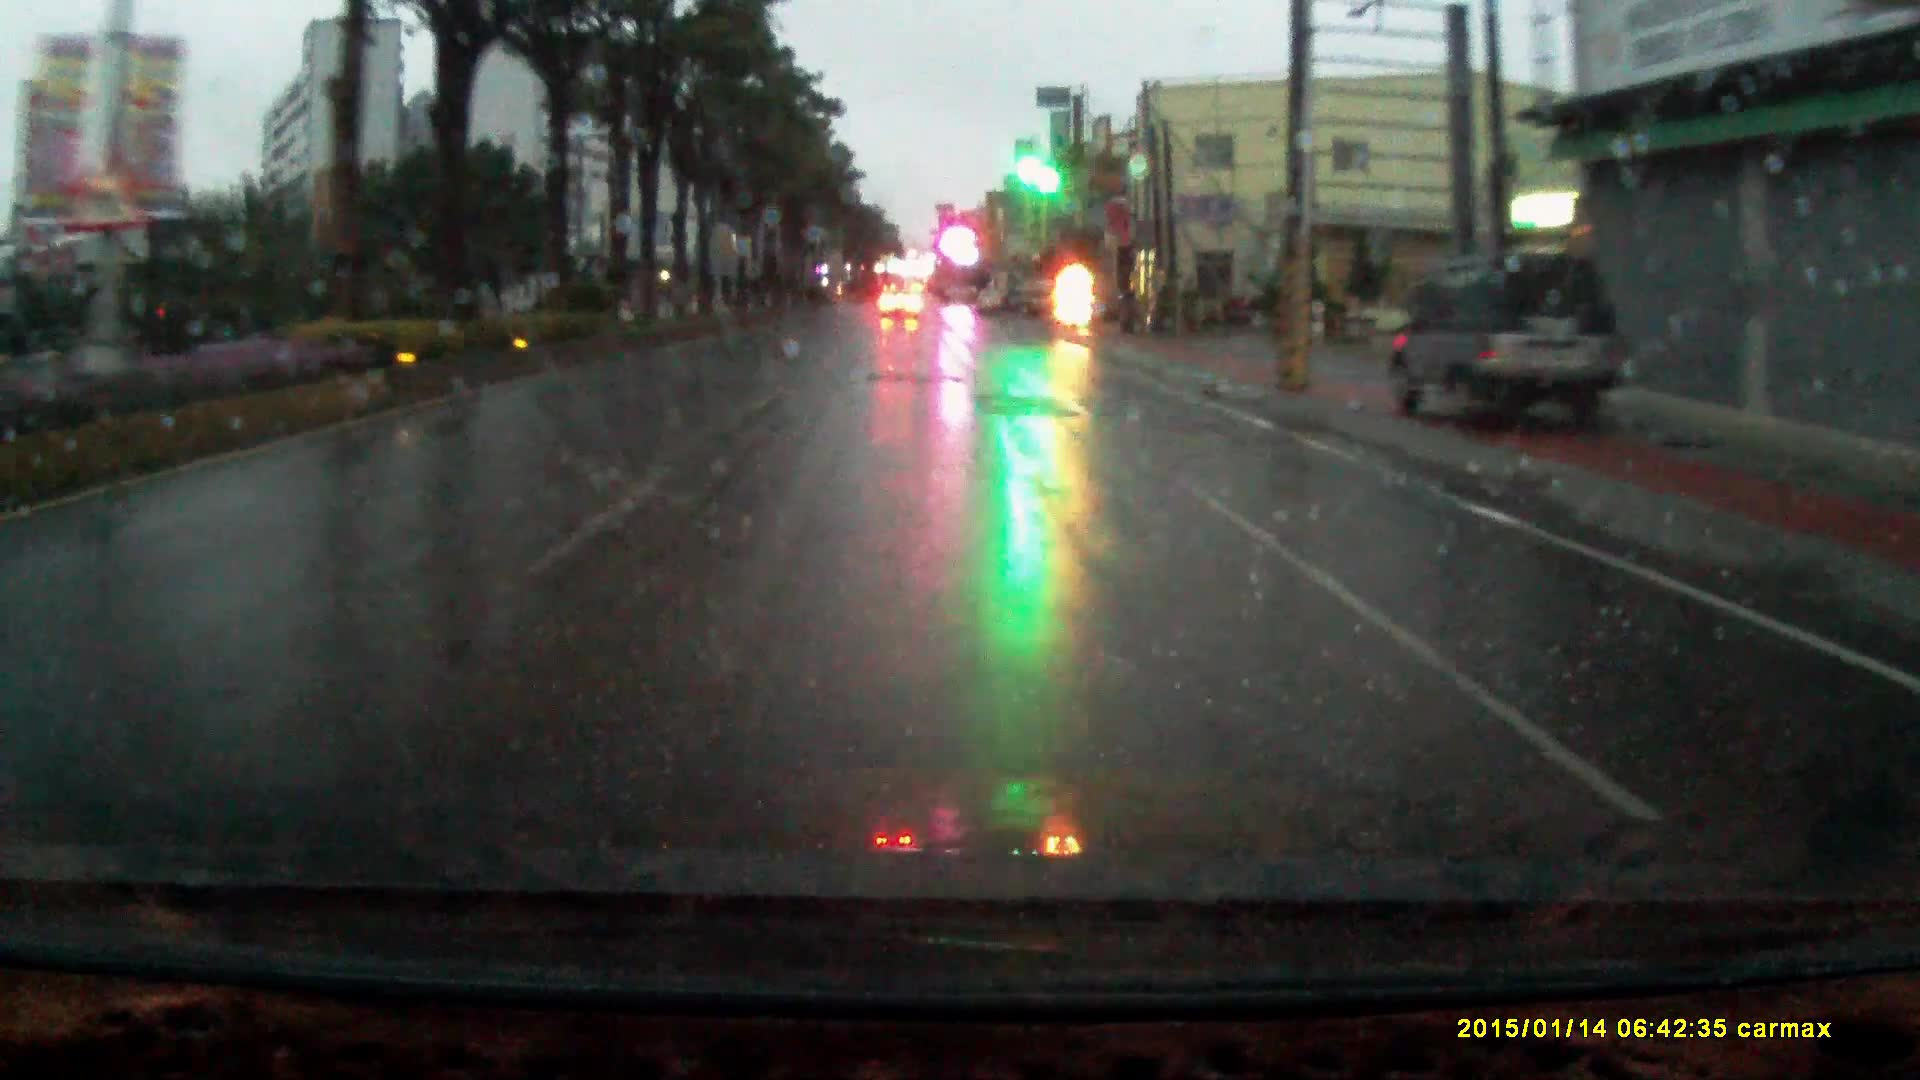vehicle: (1393, 251, 1629, 439), (1007, 291, 1064, 330), (877, 289, 923, 323)
